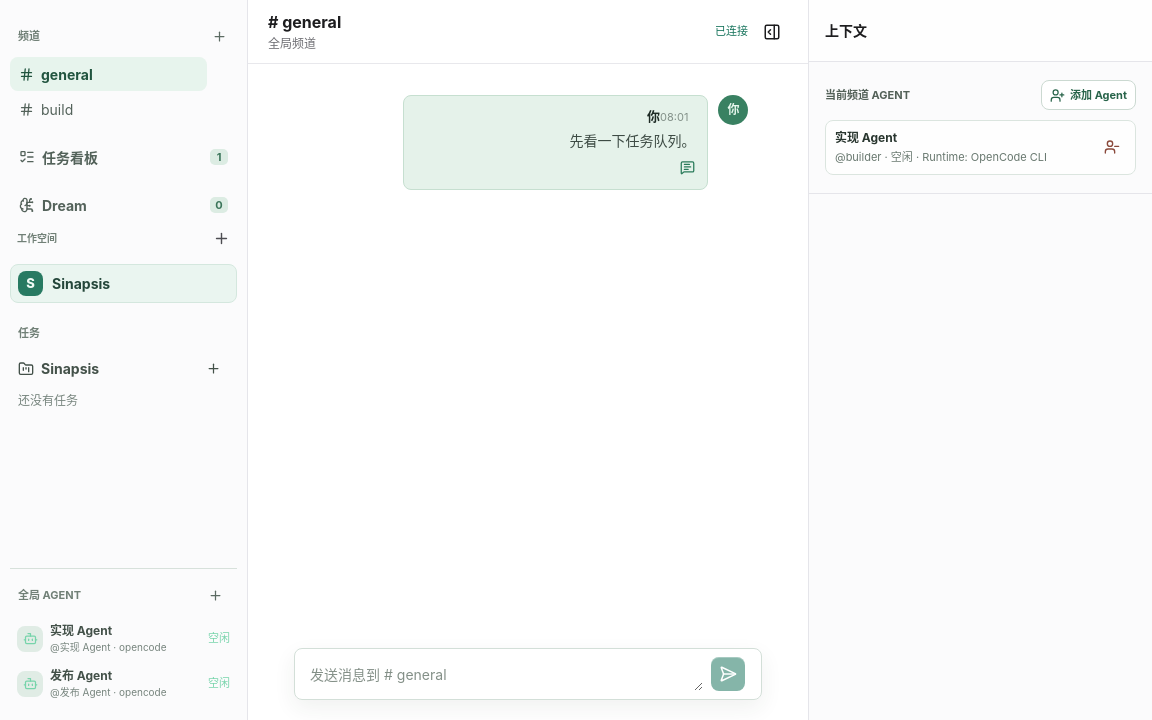
Test: WorkspaceShell › keeps the sidebar Agent list global while the context shows current channel Agents
Click the button with aria-label "# build" at {"x": 108, "y": 109}, box [10,92,207,126]
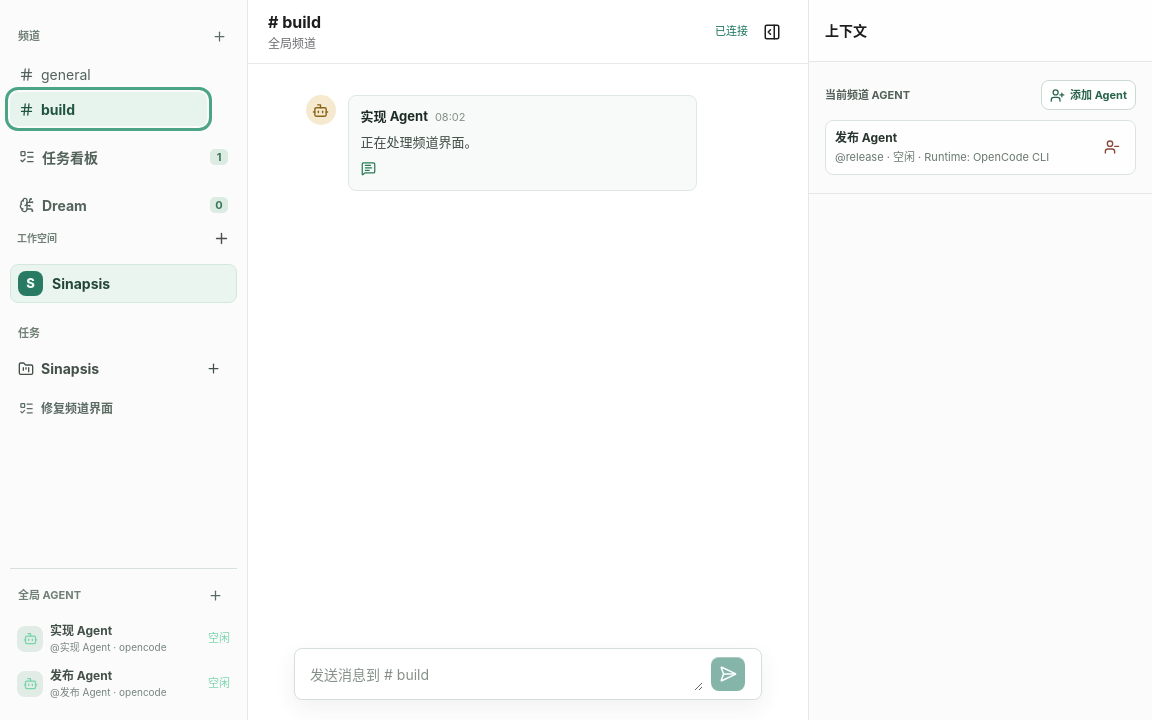
expect the button with aria-label "查看 实现 Agent 配置" is shown: met, box [10,616,237,661]
expect the text "发布 Agent" below "当前频道 Agent" is shown: met, box [835,130,897,145]
